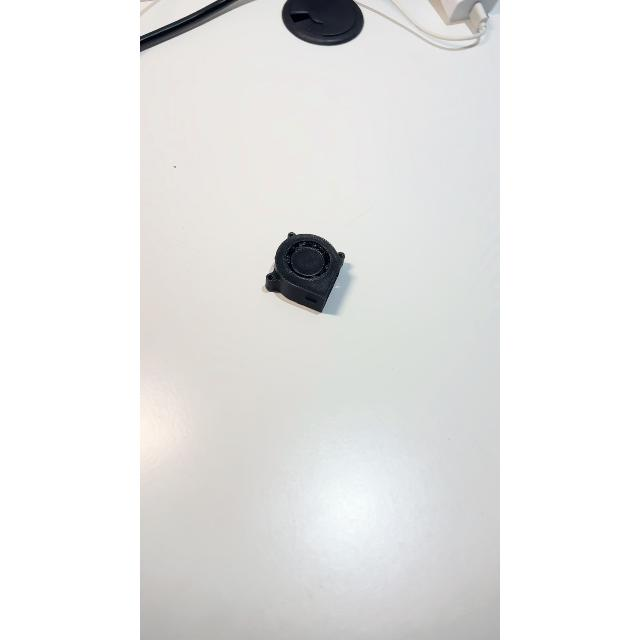Pieza_3: (255, 222, 355, 331)
